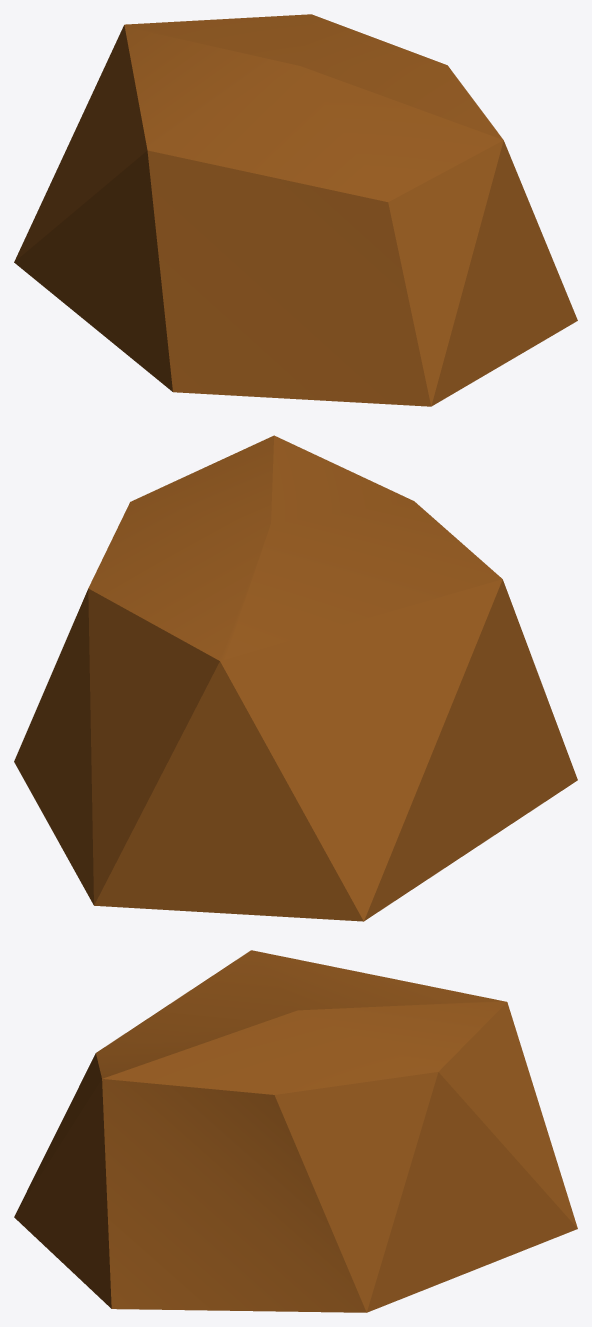
File: Rock_Small_Dirt_01.fbx
The picture shows the model from 3 angles, top to bottom: view 1: azimuth 30°, elevation 25°; view 2: azimuth 150°, elevation 25°; view 3: azimuth 270°, elevation 25°; orthographic projection. The views are drawn at different scales.
Parts seen in each view (by area): view 1: Model; view 2: Model; view 3: Model.
Part boxes in pixels (box(x1,y1,x2,y2)): Model: box(14, 14, 577, 406); Model: box(14, 435, 577, 921); Model: box(14, 950, 577, 1312).
Bounding box in the file's own units: 165 × 117 × 221.
